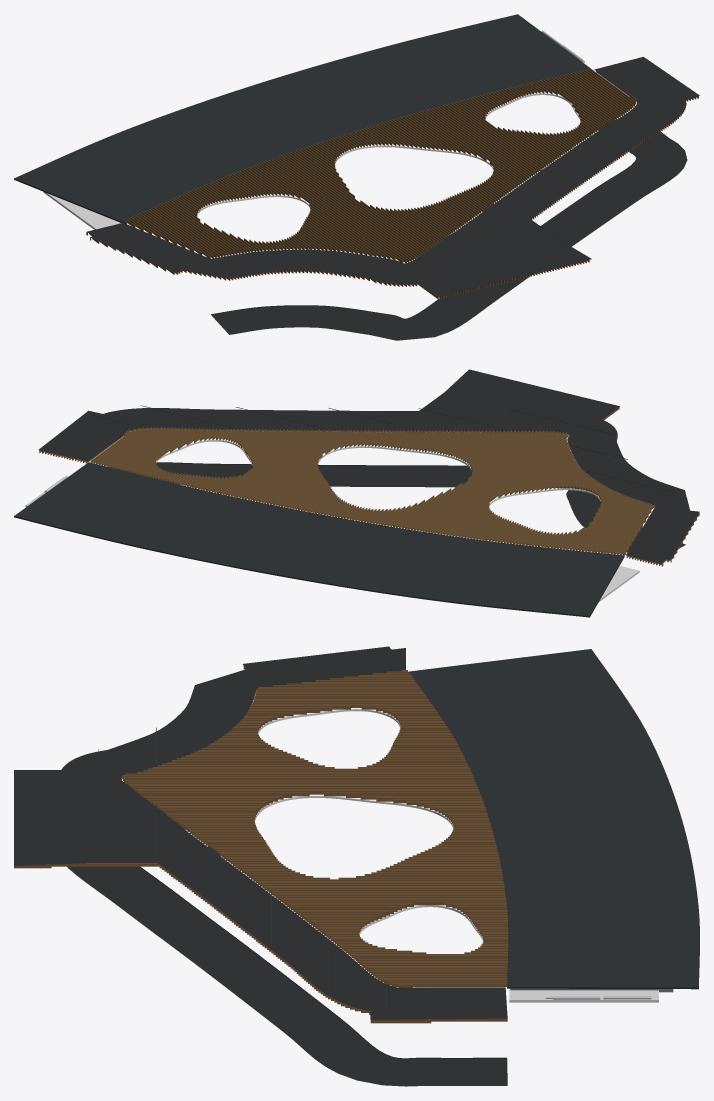
The model's file is SM_L6_Ceiling_Solid_f30f007762_0.fbx.
3 renders of one model, top to bottom at view 1: azimuth 30°, elevation 25°; view 2: azimuth 150°, elevation 25°; view 3: azimuth 270°, elevation 25°, orthographic. The views are drawn at different scales.
Visible parts, largest first — view 1: SM_L6_Ceiling_Solid_f30f007762_0; view 2: SM_L6_Ceiling_Solid_f30f007762_0; view 3: SM_L6_Ceiling_Solid_f30f007762_0.
Part boxes in pixels (bbox=[...]): SM_L6_Ceiling_Solid_f30f007762_0: bbox=[14, 14, 699, 340]; SM_L6_Ceiling_Solid_f30f007762_0: bbox=[14, 369, 699, 617]; SM_L6_Ceiling_Solid_f30f007762_0: bbox=[14, 646, 699, 1086].
Size of the model in its own units: 46.1 by 35.78 by 4.3.
